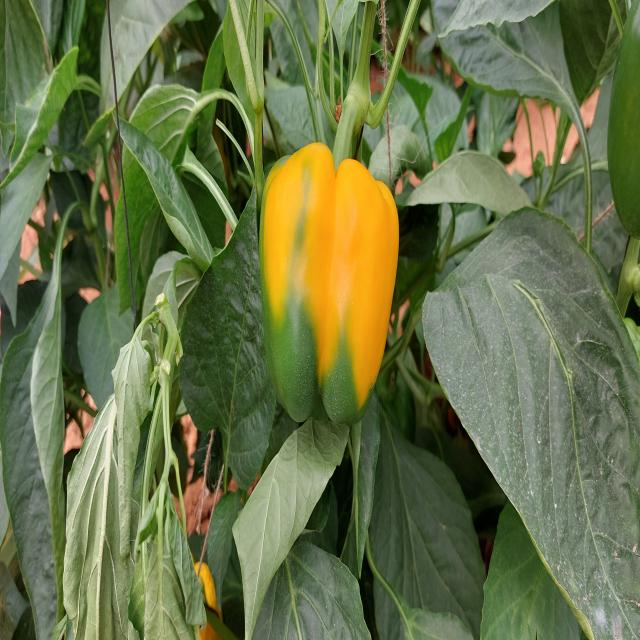GreenishYellow--Can-be-Harvested: (257, 132, 403, 424)
